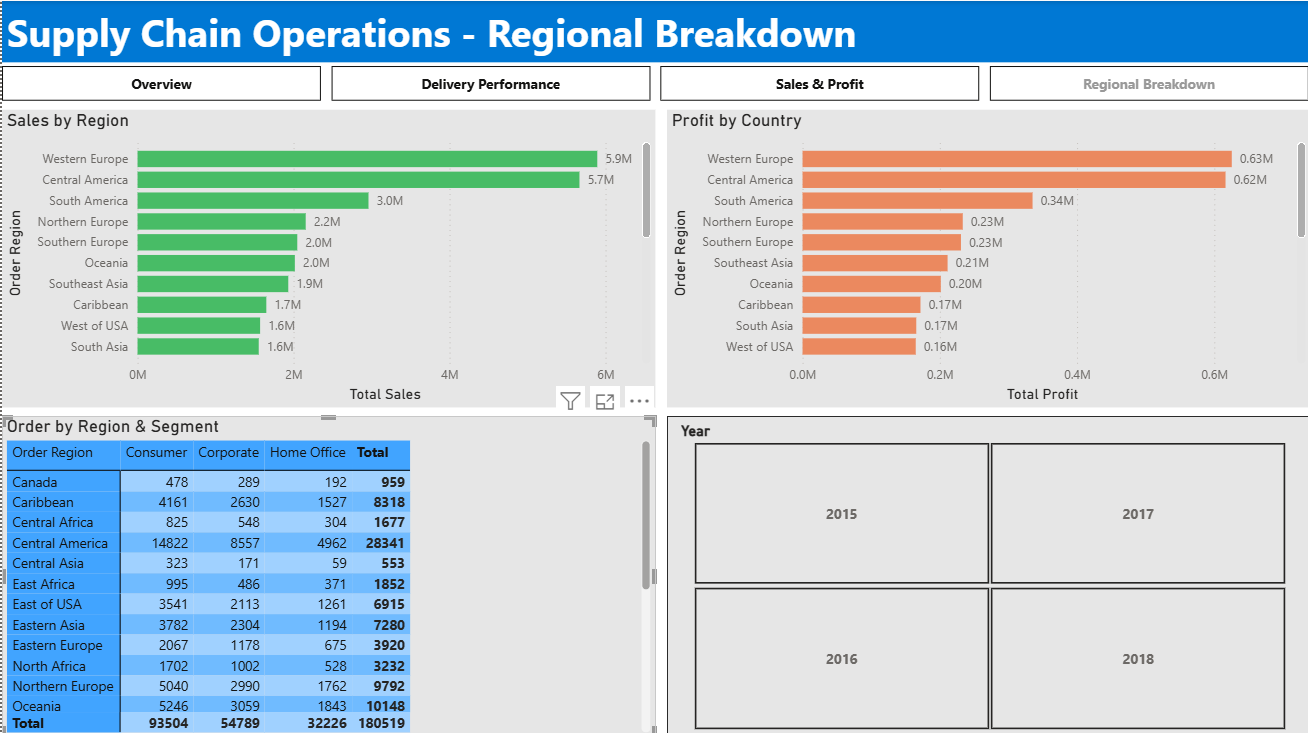

The dashboard page shown, as its layout file describes it:
{"tool":"powerbi","page":{"name":"Regional Breakdown","canvas":[1280,720],"ordinal":3},"visuals":[{"type":"clusteredBarChart","title":"Sales by Region","fields":{"Y":["_Measures.Total Sales"],"Category":["DataCoSupplyChainDataset.Order Region"]},"box":[0,106.4,639.5,291],"z":0},{"type":"clusteredBarChart","title":"Profit by Country","fields":{"Y":["_Measures.Total Profit"],"Category":["DataCoSupplyChainDataset.Order Region"]},"box":[650.5,106.4,629.8,291],"z":1000},{"type":"pivotTable","title":"Order by Region & Segment","fields":{"Rows":["DataCoSupplyChainDataset.Order Region"],"Columns":["DataCoSupplyChainDataset.Customer Segment"],"Values":["_Measures.Total Orders"]},"box":[0,406,639.5,314.3],"z":2000},{"type":"slicer","fields":{"Values":["Date Table.Year"]},"box":[650.5,406,629.8,314.3],"z":3000},{"type":"textbox","box":[0,0,1280.3,60],"z":4000},{"type":"pageNavigator","box":[0,63.6,1280.3,34.2],"z":5000}]}

Visuals, with their boxes in screenshot pixels (x1, y1, x2, y2), scaled from the page's 1280x720 canvas onto the 1308x733 screenshot:
"Sales by Region" clusteredBarChart: <region>0, 108, 653, 405</region>
"Profit by Country" clusteredBarChart: <region>665, 108, 1307, 405</region>
"Order by Region & Segment" pivotTable: <region>0, 413, 653, 732</region>
slicer - Date Table.Year: <region>665, 413, 1307, 732</region>
textbox: <region>0, 0, 1307, 61</region>
pageNavigator: <region>0, 65, 1307, 100</region>
